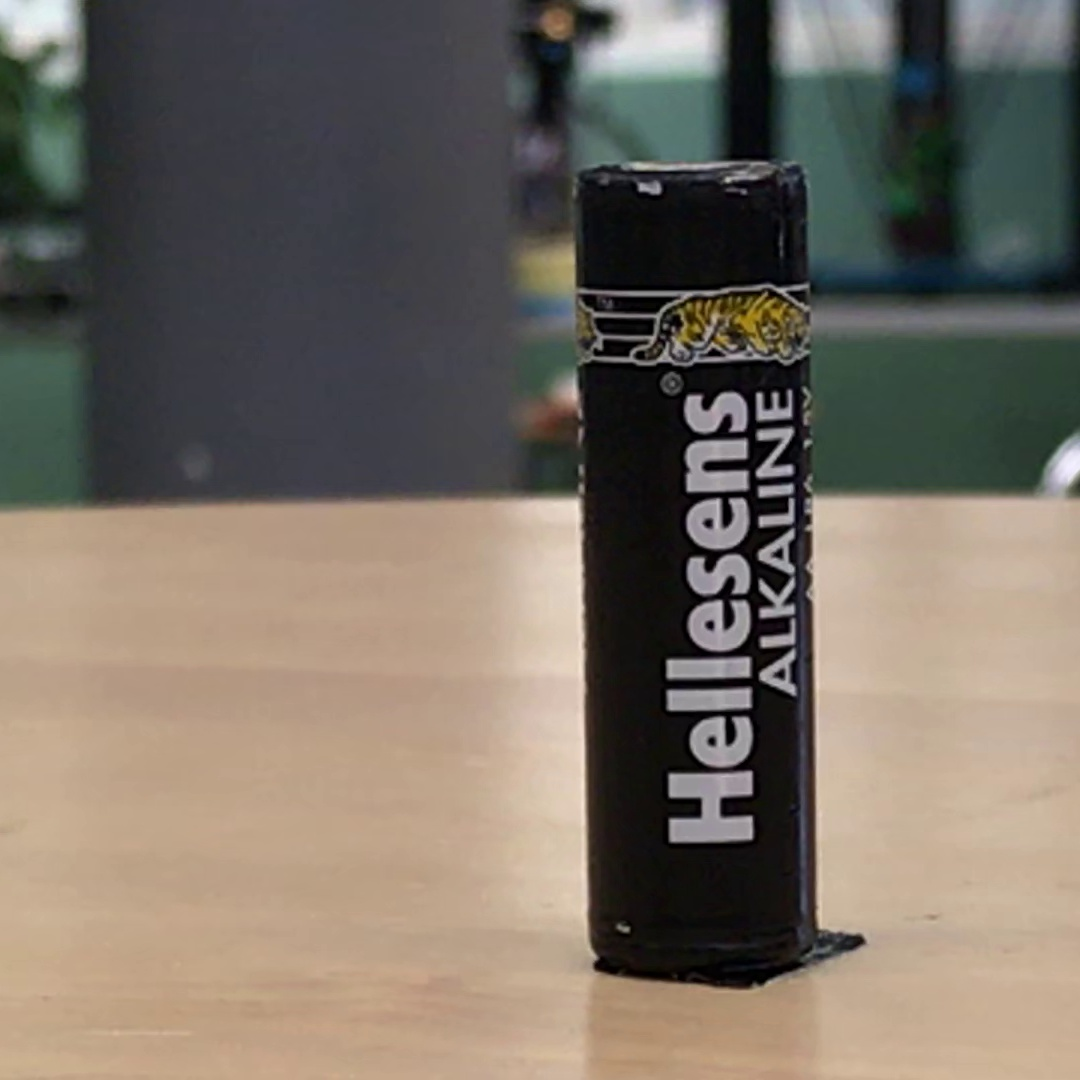keyword: (741, 282, 807, 706)
